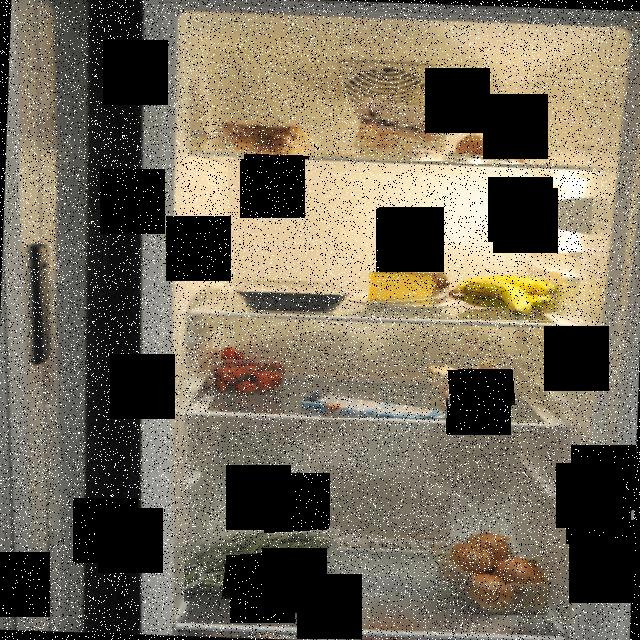banana: (450, 271, 563, 324)
bread: (214, 116, 321, 159)
cheese: (363, 268, 451, 309)
chocolate: (294, 388, 448, 418)
eggs: (452, 132, 532, 164)
flour: (346, 95, 448, 161)
green_beans: (184, 526, 341, 602)
mushrooms: (422, 354, 522, 406)
onion: (438, 524, 548, 616)
strawberries: (210, 344, 289, 397)
